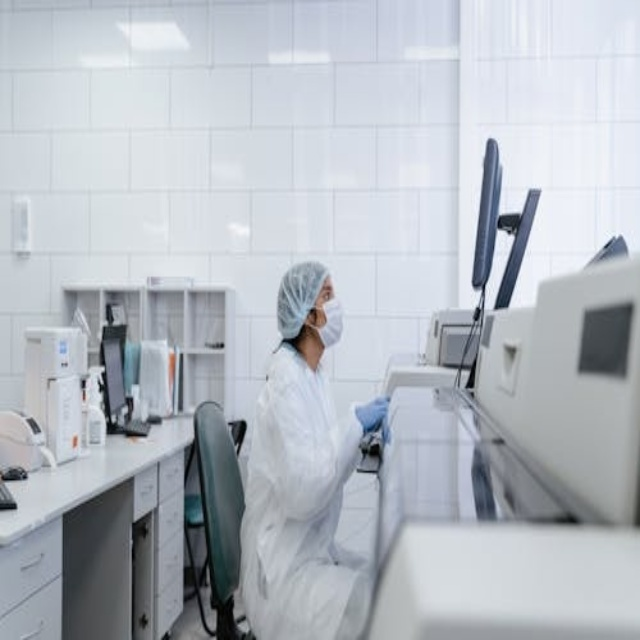Guantes: (356, 396, 392, 440)
Mascara: (310, 297, 345, 350)
Sin_gafas: (317, 283, 337, 298)
